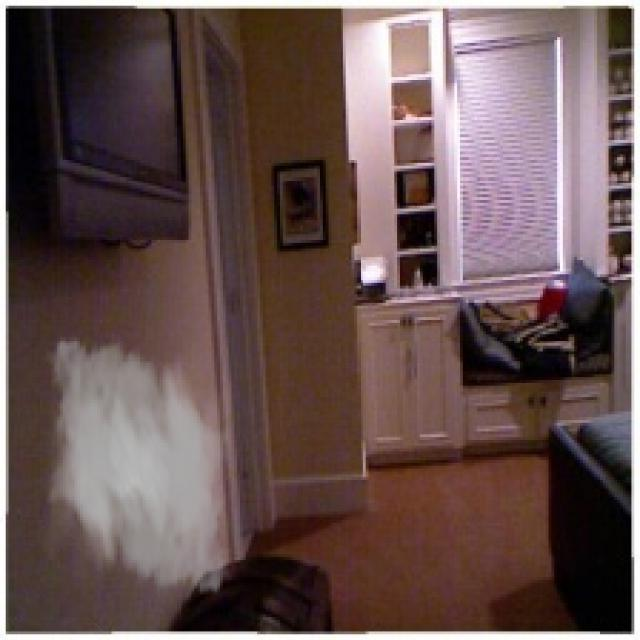Smoke: (37, 326, 246, 606)
